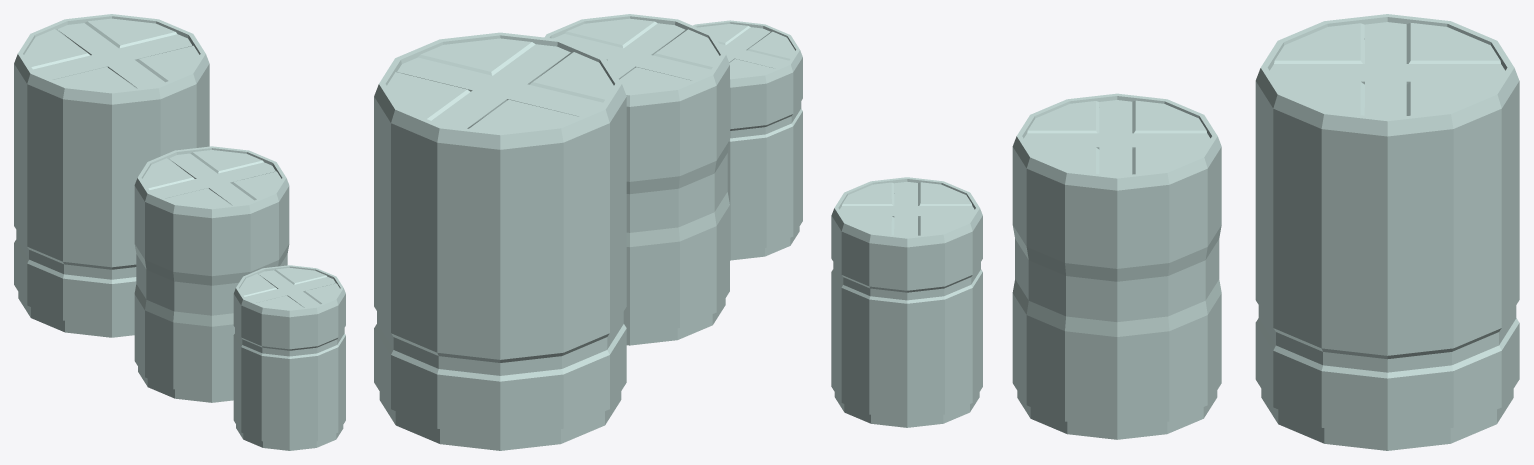
File: batteries.fbx
3 renders of one model, left to right at view 1: azimuth 30°, elevation 25°; view 2: azimuth 150°, elevation 25°; view 3: azimuth 270°, elevation 25°, orthographic. The views are drawn at different scales.
Parts seen in each view (by area): view 1: Cylinder.010, Cylinder.015, Cylinder.013; view 2: Cylinder.010, Cylinder.015, Cylinder.013; view 3: Cylinder.010, Cylinder.015, Cylinder.013.
Boxes of the visible parts, left/top/right/bottom form: Cylinder.010: left=14, top=14, right=209, bottom=337; Cylinder.015: left=134, top=146, right=289, bottom=402; Cylinder.013: left=233, top=265, right=345, bottom=450; Cylinder.010: left=374, top=32, right=626, bottom=450; Cylinder.015: left=544, top=14, right=729, bottom=345; Cylinder.013: left=693, top=20, right=802, bottom=260; Cylinder.010: left=1255, top=14, right=1519, bottom=450; Cylinder.015: left=1012, top=93, right=1221, bottom=439; Cylinder.013: left=831, top=177, right=982, bottom=427.
Bounding box in the file's own units: 1256 × 1733 × 3274.
